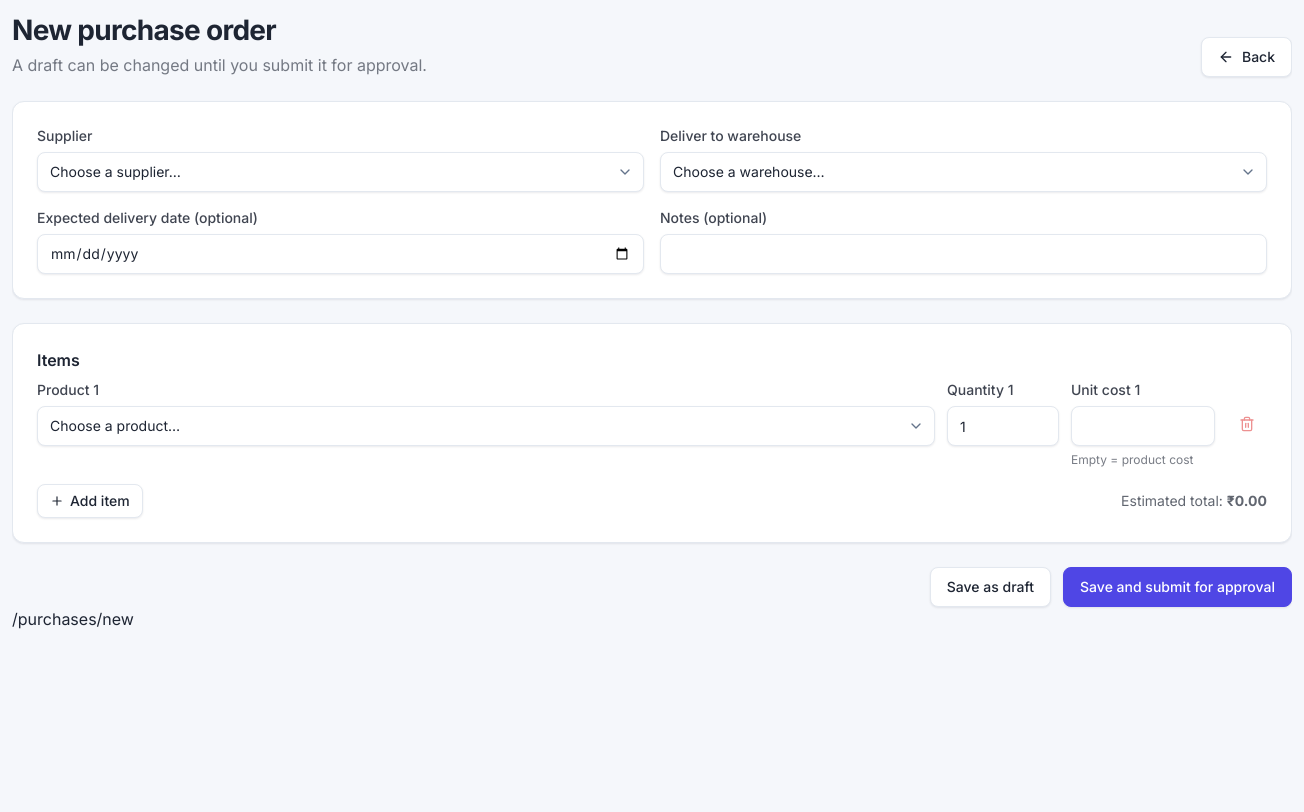
PurchaseFormPage — new › shows the server's message and stays on the form when saving fails
The width and height of the screenshot is (1304, 812).
Select "Acme Electronics" in the dropdown labelled "Supplier" at (340,172), box [37,152,644,192]
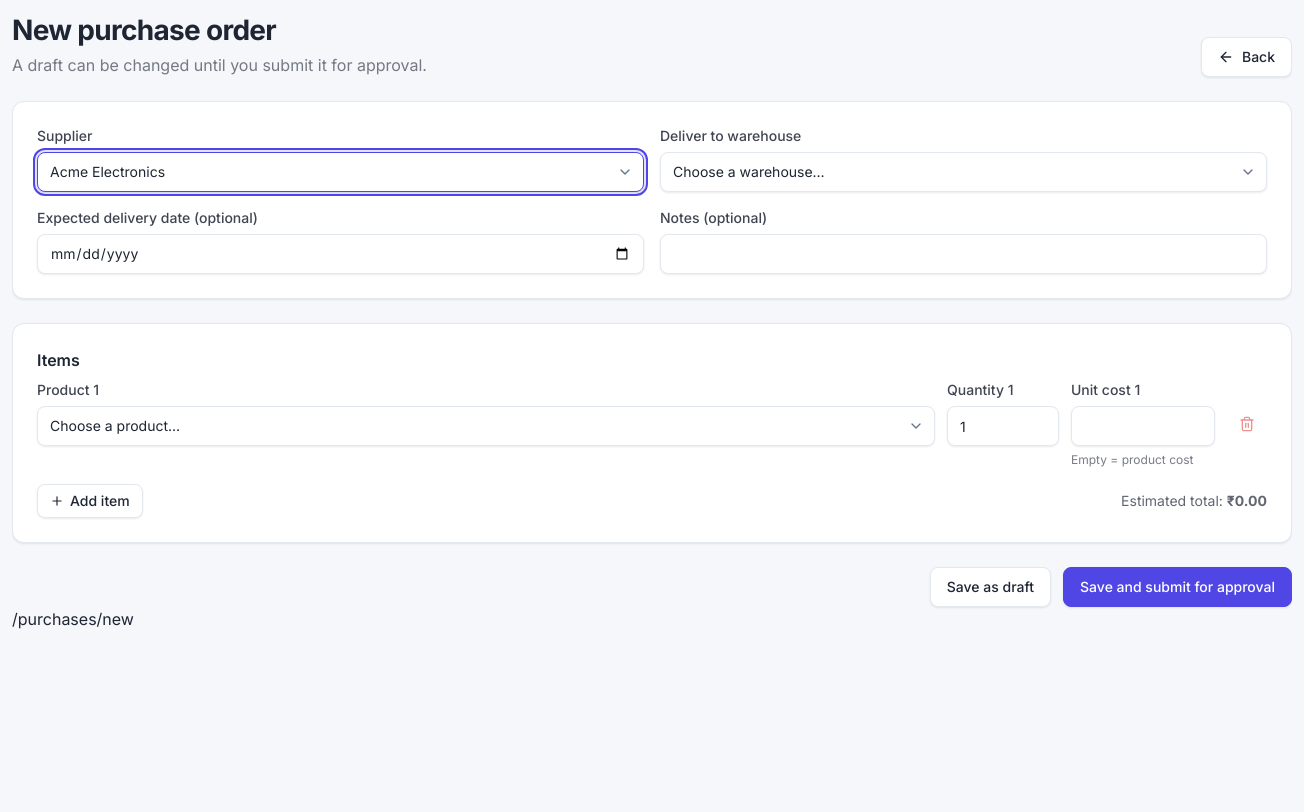
Select "Noida Hub (NOI-01)" in the dropdown labelled "Deliver to warehouse" at (964,172), box [660,152,1267,192]
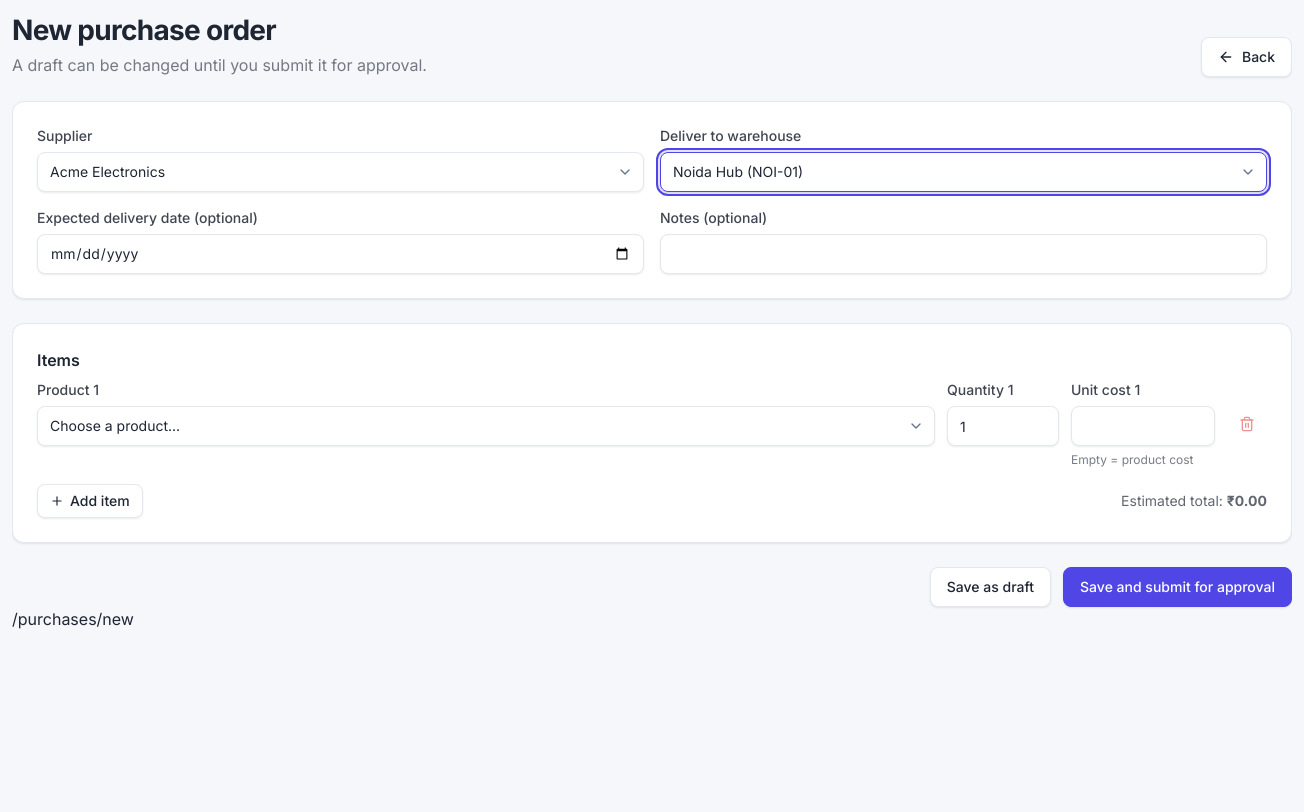
Select "Keyboard (KEY-K100) — cost ₹400.00" in the dropdown labelled "Product 1" at (486,426), box [37,406,935,446]
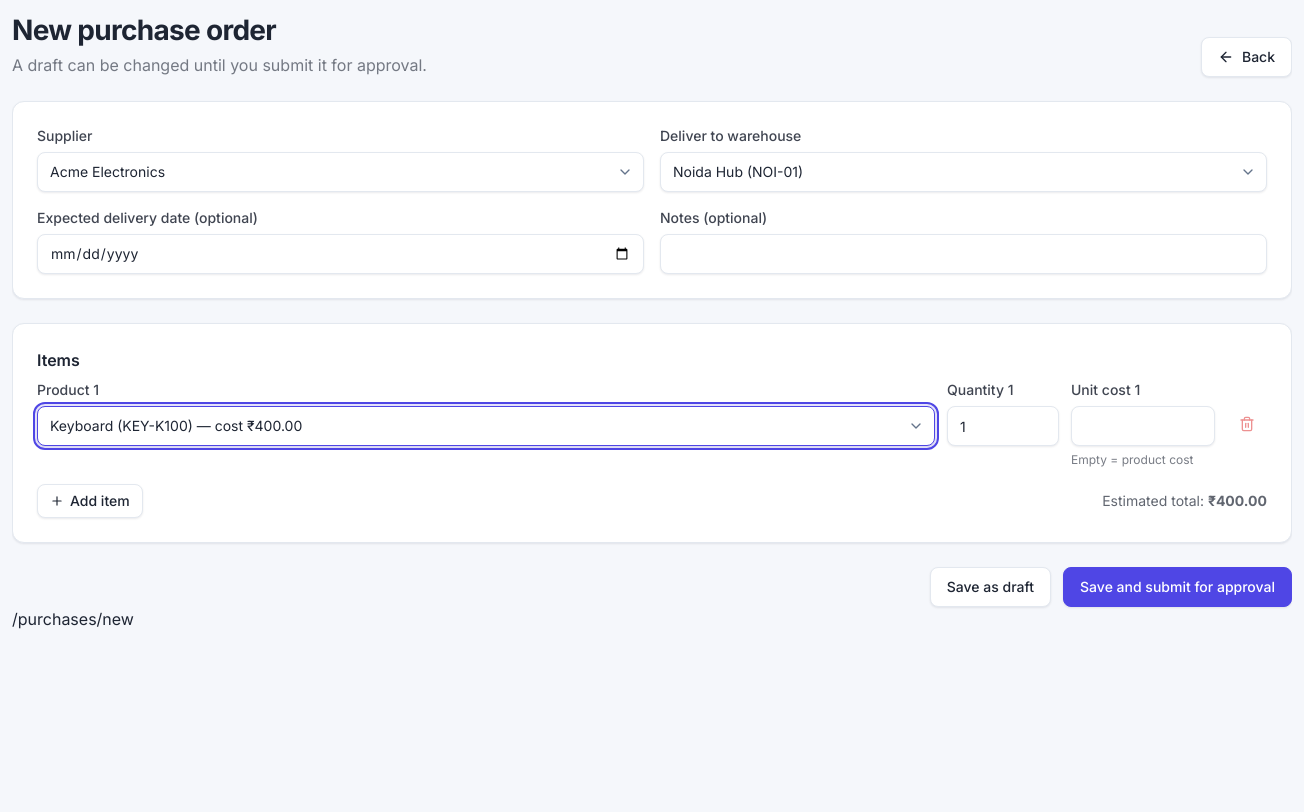
Click the button "Save as draft" at (990,587), box [930,567,1051,607]
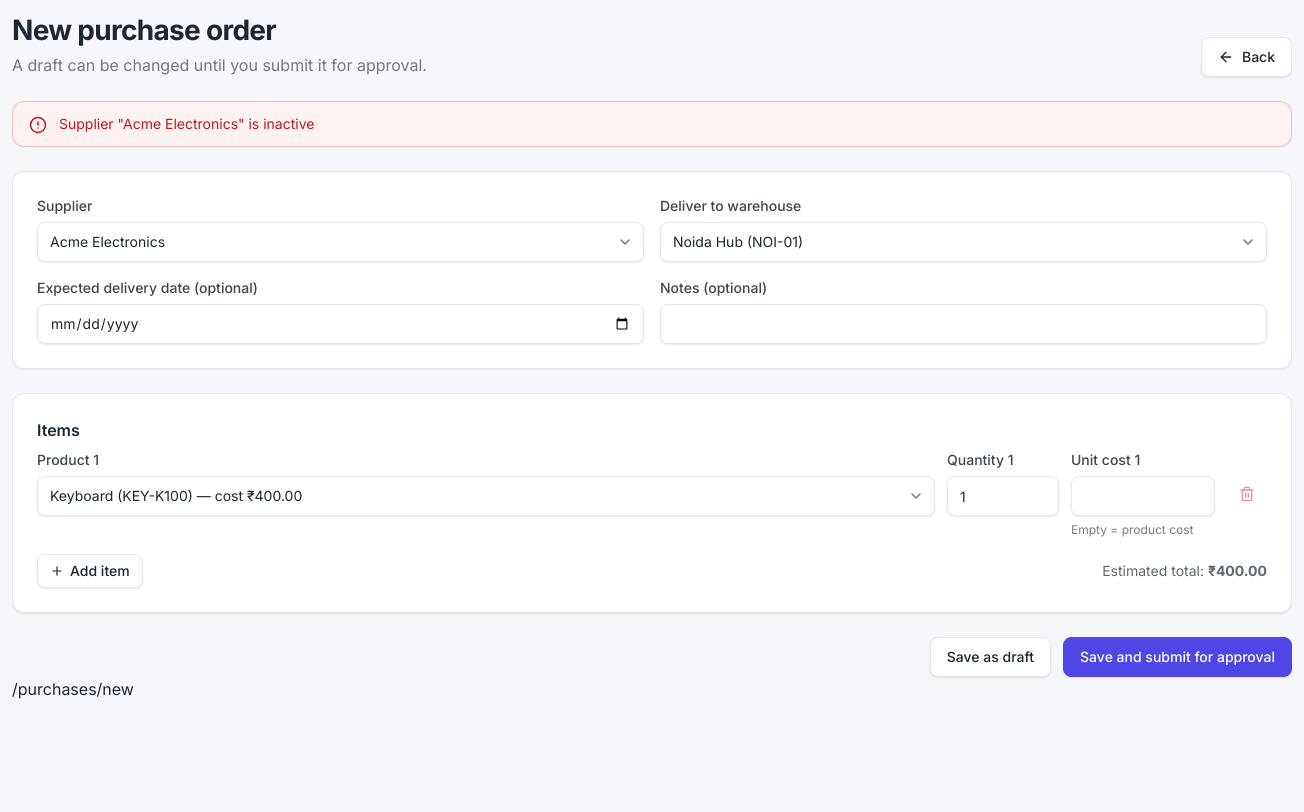
Check: the text with test id "location" reads "/purchases/new", box [12,679,134,699]
Check: the text "Supplier \"Acme Electronics\" is inactive" is shown, box [59,115,314,132]
